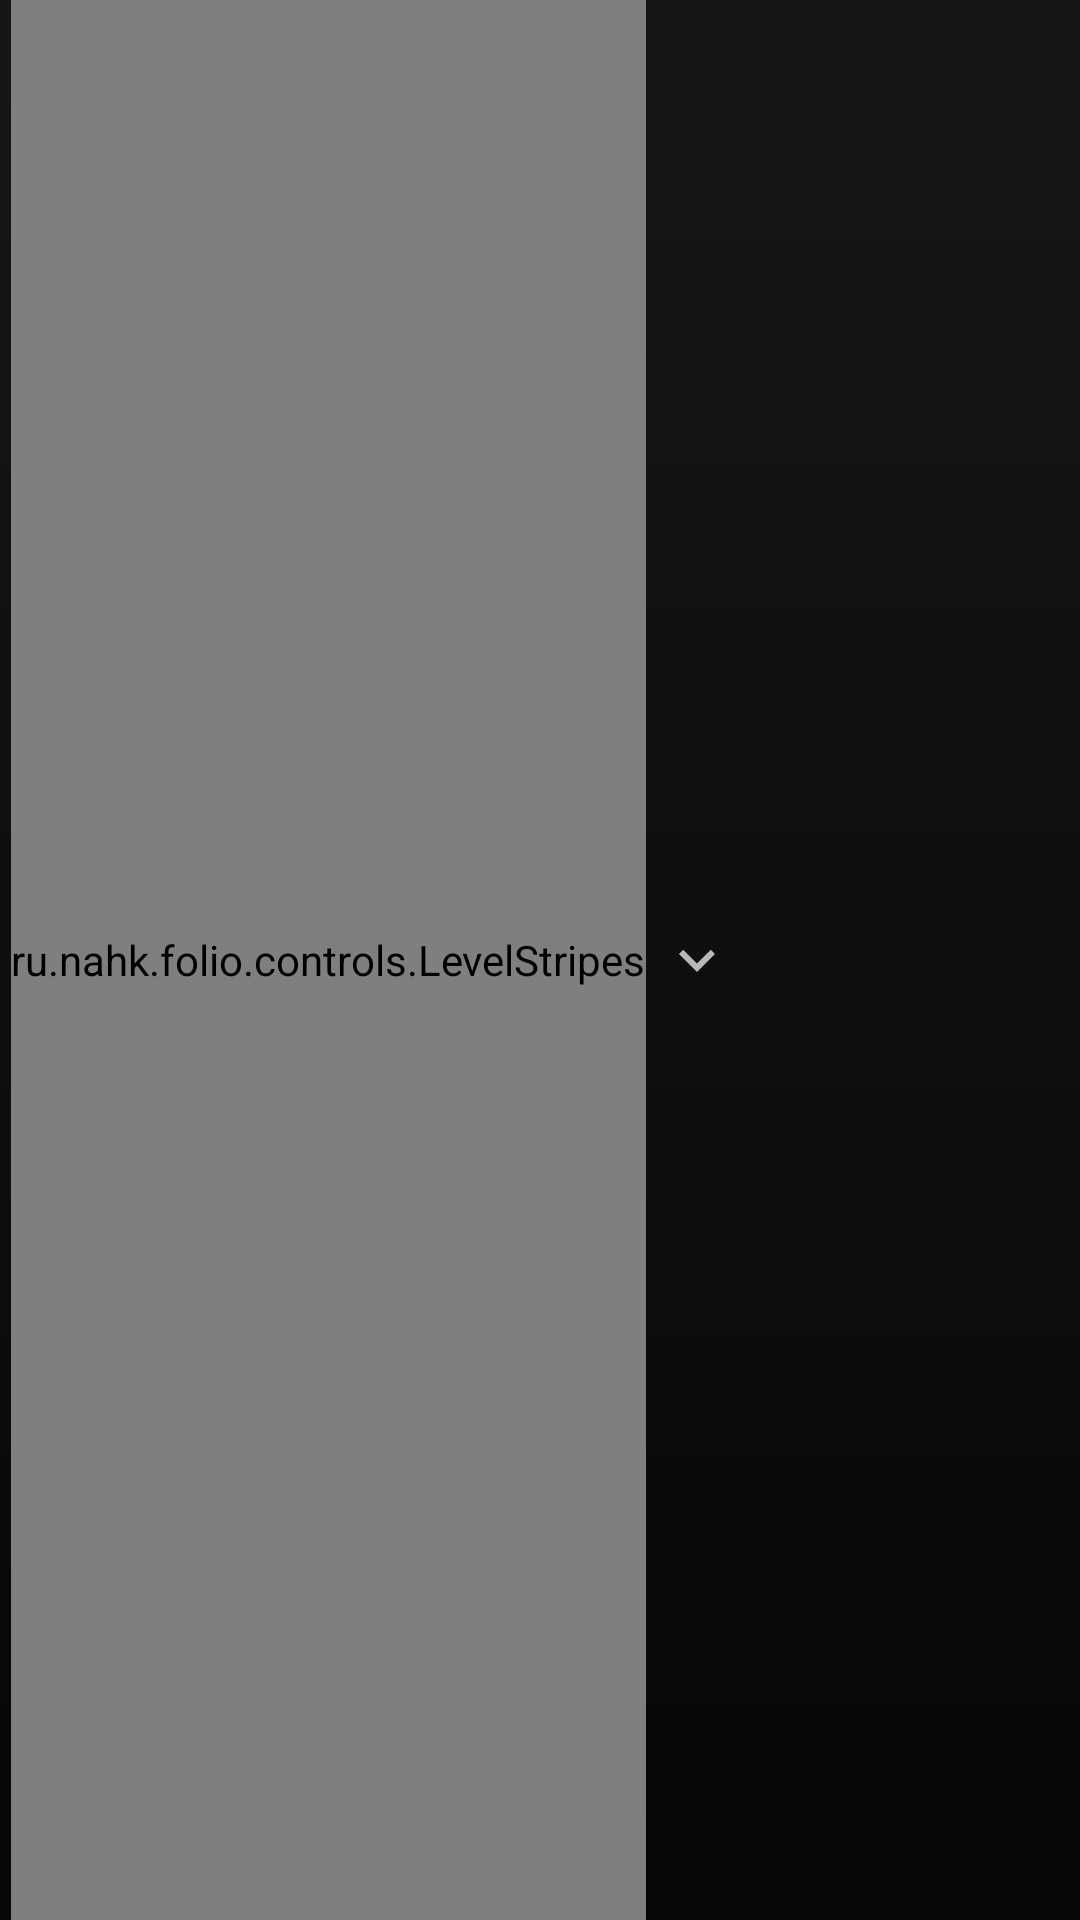

Screen size 1080x1920. Icon name, then its center in pixels as (x=x, y=y):
Group state: (x=697, y=961)
